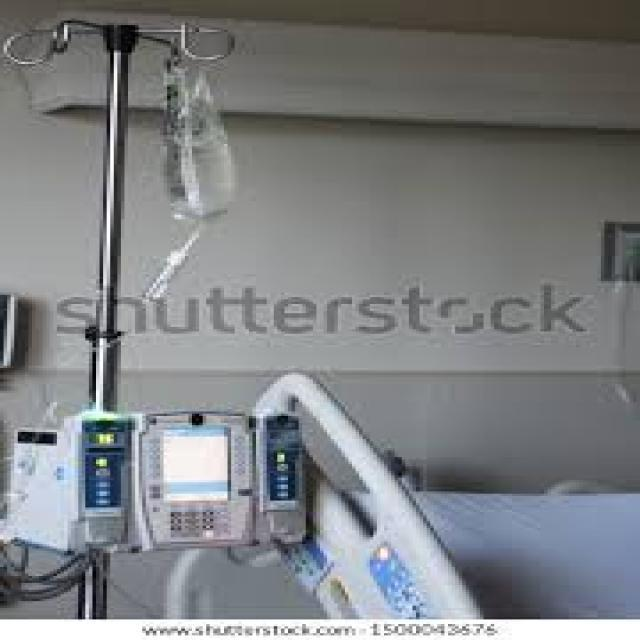iv_fluids: (130, 39, 253, 305)
